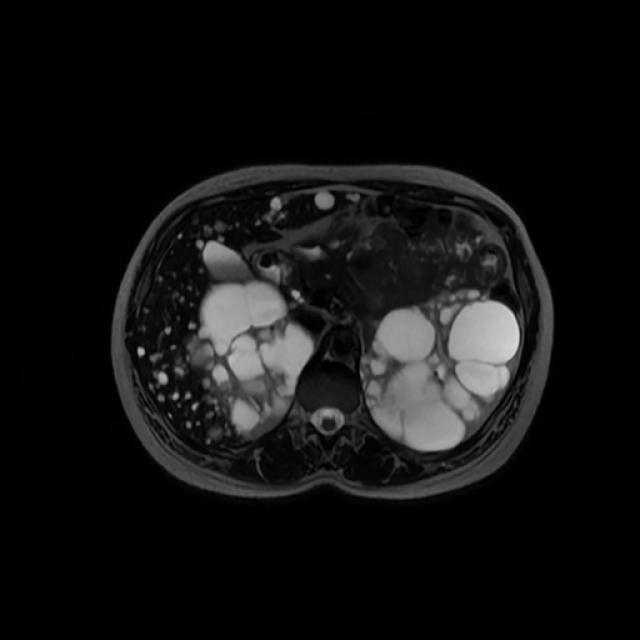sag: (196, 279, 316, 438)
sol: (364, 295, 519, 449)
